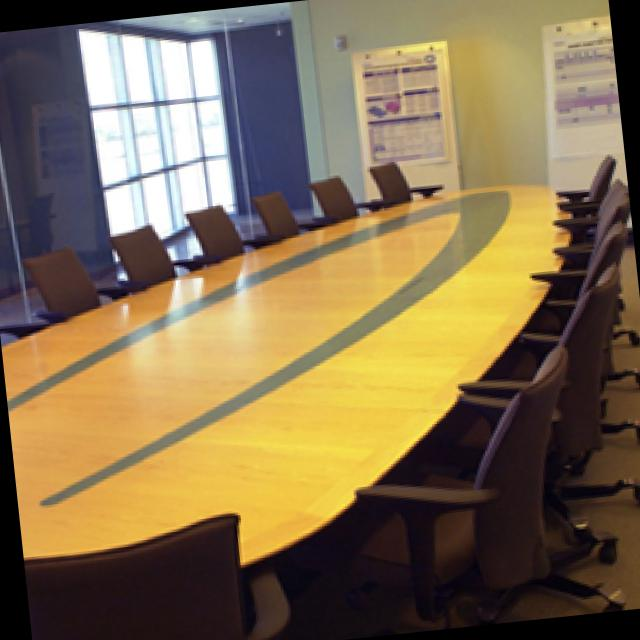2001: (83, 28, 236, 261)
ceiling beam: (120, 1, 293, 36)
chair: (25, 241, 126, 315), (110, 220, 206, 289), (185, 200, 261, 257), (313, 169, 383, 219), (254, 186, 312, 243), (371, 156, 446, 200), (555, 149, 617, 196)
chair -occluded-: (341, 345, 625, 618), (460, 259, 640, 533)
chair seat: (25, 507, 290, 640)
conference table: (8, 180, 572, 603)
poster crop: (363, 46, 454, 164), (554, 25, 624, 154)
row of chairs: (531, 173, 630, 304)
whiteboard: (352, 37, 464, 210), (542, 13, 628, 188)
